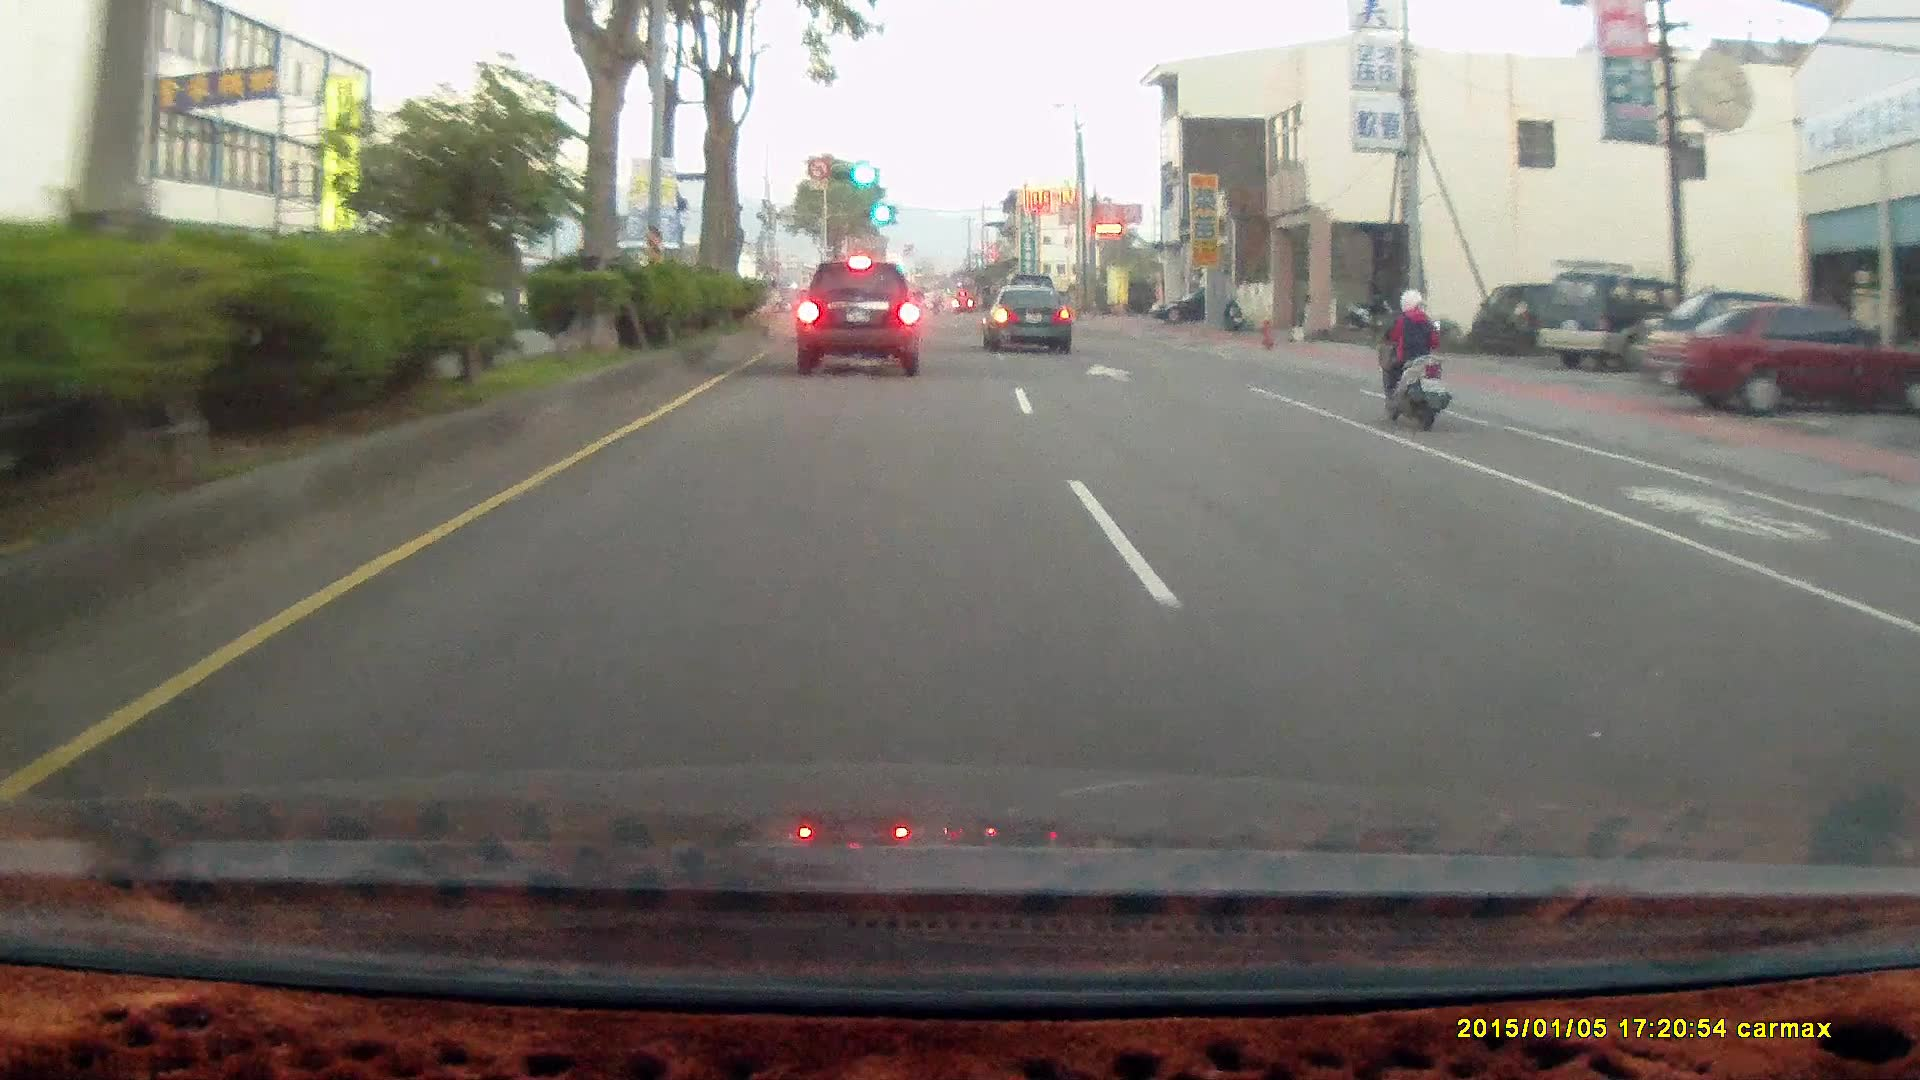rider: (1361, 279, 1464, 441), (1373, 283, 1450, 426)
vehicle: (1645, 297, 1920, 421), (1640, 300, 1920, 417), (1533, 269, 1697, 372), (1534, 267, 1689, 371), (795, 259, 923, 374), (800, 255, 925, 372), (1470, 282, 1570, 352), (982, 286, 1076, 352), (982, 282, 1071, 350), (1148, 288, 1238, 322), (1148, 288, 1207, 327)
